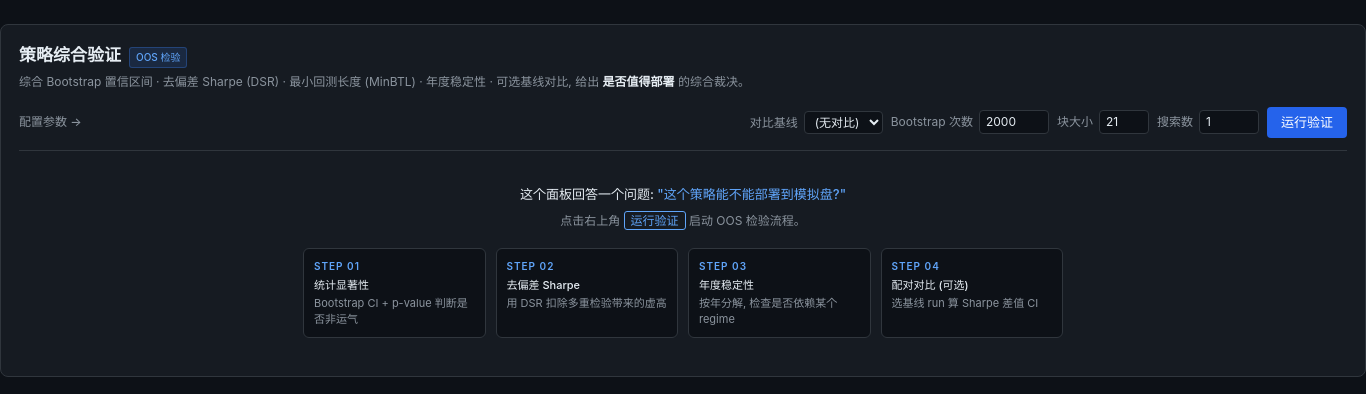
Test: ValidationPanel - invalid input rejection › shows error toast when bootstrap count out of bounds
Replace the text in the number field labelled "Bootstrap 次数" with "50": point(1014, 122) [979,110,1049,134]
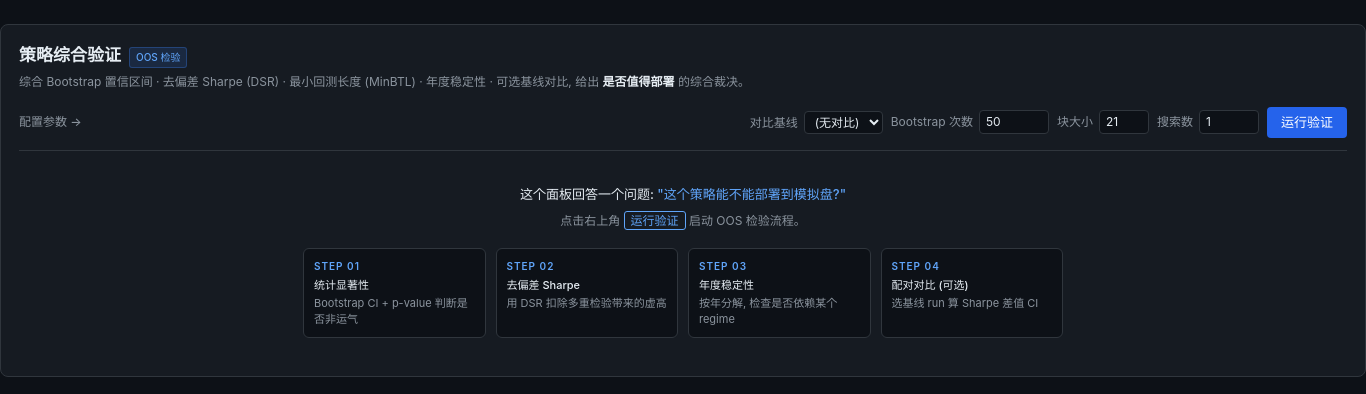
Click the button "运行验证": point(1307, 122) [1267,106,1347,138]
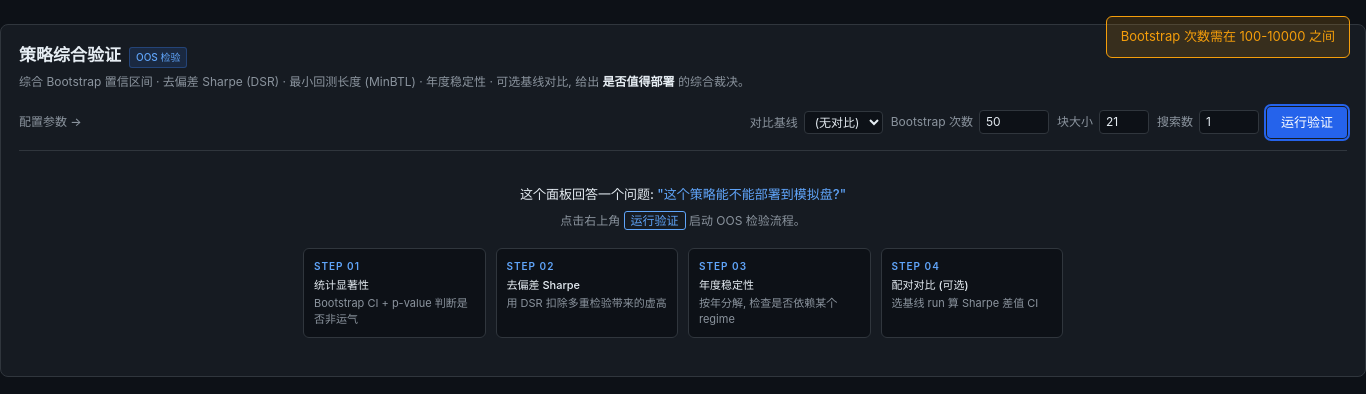
Expected: the text "Bootstrap 次数需在 100-10000 之间" is shown, [1106,16,1350,58]
